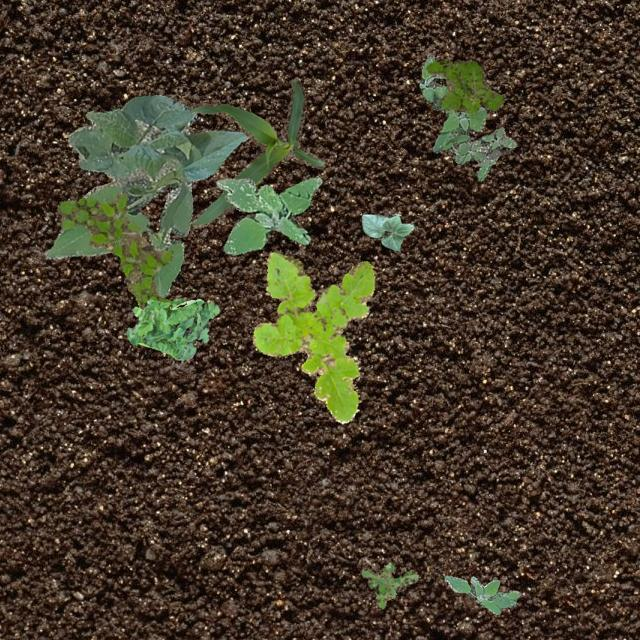crop: (44, 94, 248, 296), (188, 77, 324, 226), (360, 212, 412, 250)
weed: (250, 250, 374, 422), (56, 192, 172, 308), (418, 52, 514, 180), (216, 174, 320, 254), (126, 297, 220, 358), (426, 58, 502, 115), (444, 574, 518, 614), (360, 562, 418, 608)
